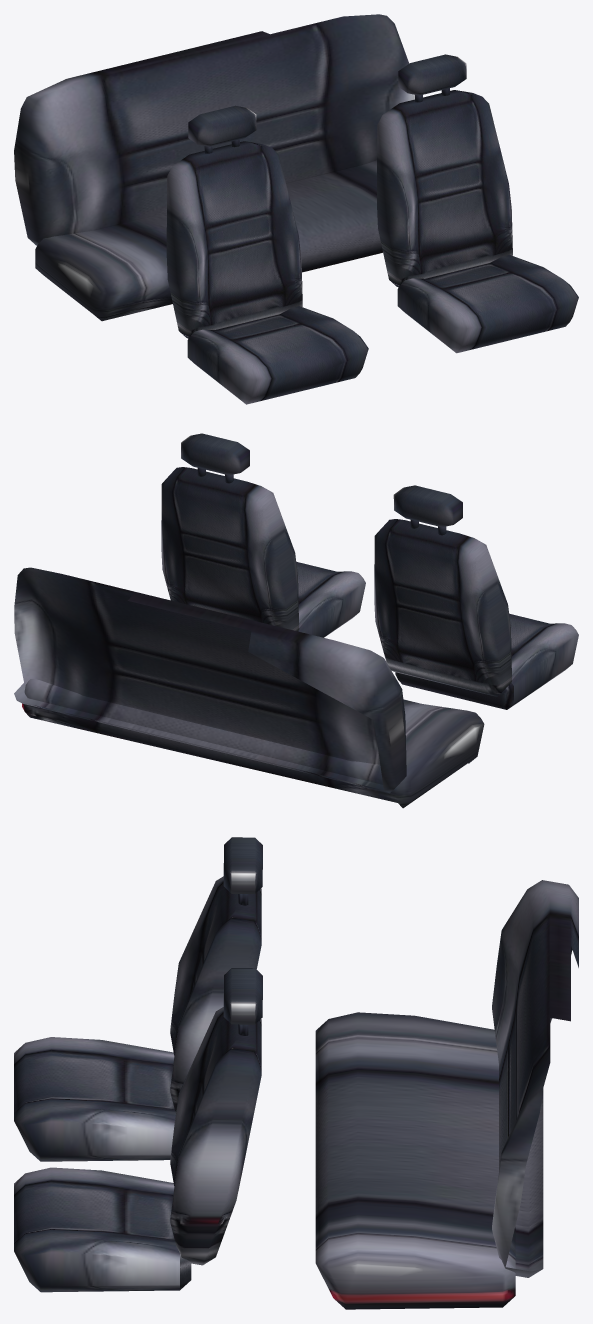
File: car_interior_seats.obj
3 views of the same model, one above another, from view 1: azimuth 30°, elevation 25°; view 2: azimuth 150°, elevation 25°; view 3: azimuth 270°, elevation 25° (orthographic). The views are drawn at different scales.
Visible parts, largest first — view 1: Mesh; view 2: Mesh; view 3: Mesh.
Part boxes in pixels (<box>): Mesh: <box>14,14,578,404</box>; Mesh: <box>14,433,578,808</box>; Mesh: <box>14,837,578,1309</box>.
Bounding box in the file's own units: 0.3261 × 0.1725 × 0.316.
